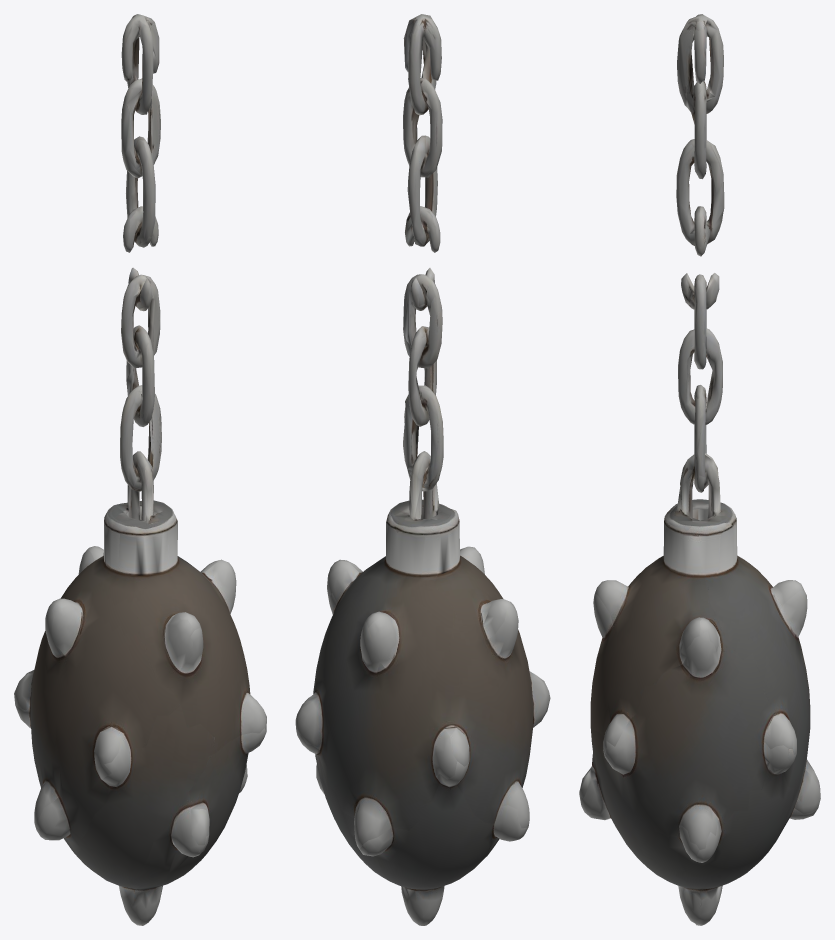
3 views of the same model, side by side, from view 1: azimuth 30°, elevation 25°; view 2: azimuth 150°, elevation 25°; view 3: azimuth 270°, elevation 25° (orthographic).
Visible parts, largest first — view 1: node_0; view 2: node_0; view 3: node_0.
Part boxes in pixels (bbox=[...]): node_0: bbox=[14, 14, 266, 925]; node_0: bbox=[295, 14, 550, 925]; node_0: bbox=[579, 14, 820, 925].
Bounding box in the file's own units: 0.4554 × 1.89 × 0.4554.
Materials: 1 (1 with a texture image).
